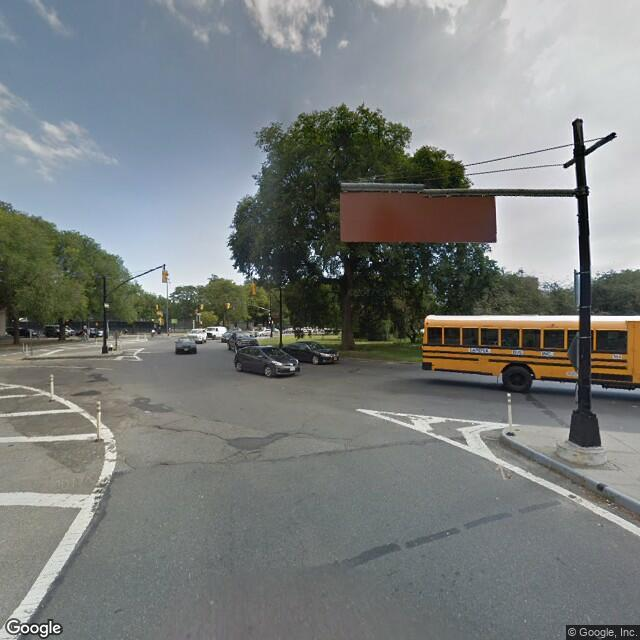litter: (605, 495, 610, 502)
